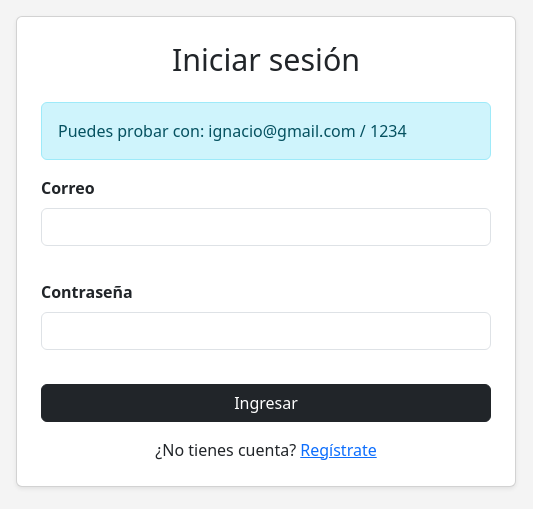
it: Página de Login › muestra error si el dominio del correo no es válido
The width and height of the screenshot is (533, 509).
In the field labelled "Correo": (266,226) [41, 208, 491, 246], type "usuario@hotmail.com"
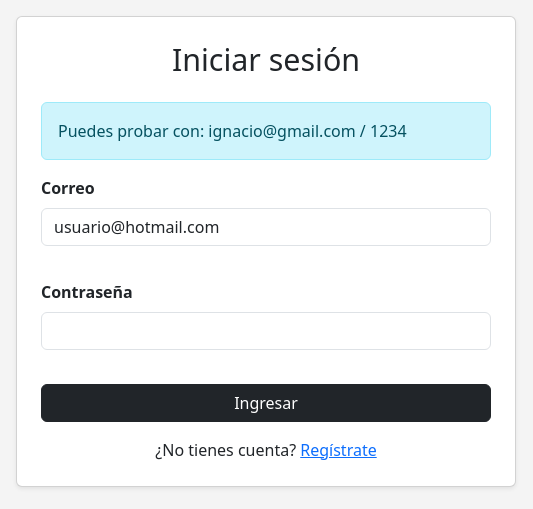
In the password field labelled "Contraseña": (266,330) [41, 312, 491, 350], type "1234"
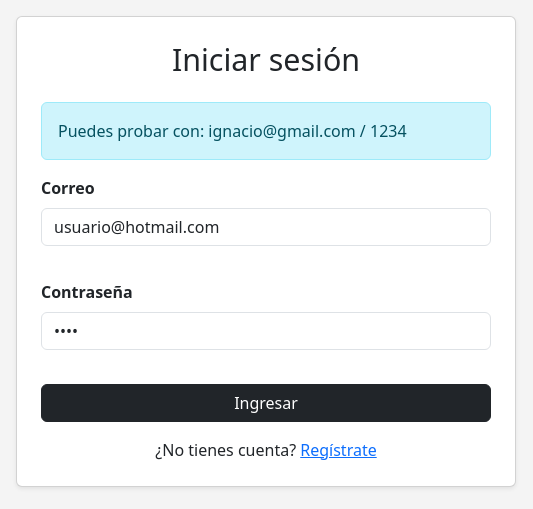
Click the button "Ingresar": (266,402) [41, 384, 491, 422]
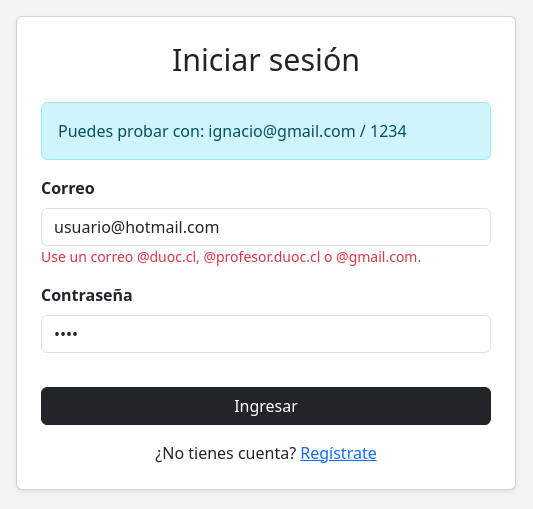
Now the text "Use un correo @duoc.cl, @profesor.duoc.cl o @gmail.com." is shown, box [41, 246, 421, 266]
